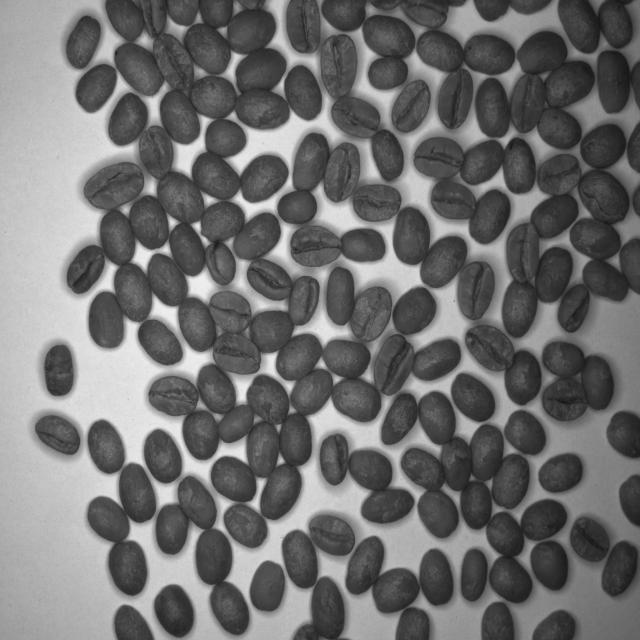bad: (152, 30, 201, 105), (234, 85, 294, 140), (218, 495, 270, 553), (246, 374, 294, 430), (43, 340, 82, 399)
good: (81, 157, 152, 215), (578, 164, 633, 234), (418, 229, 470, 296), (585, 251, 637, 317), (224, 6, 283, 64), (453, 368, 504, 435), (368, 331, 416, 402), (593, 47, 638, 121), (58, 235, 110, 299), (242, 294, 294, 358), (151, 571, 199, 640), (469, 183, 517, 252), (543, 56, 598, 116), (309, 570, 356, 640), (238, 145, 291, 207), (495, 268, 539, 342), (338, 436, 394, 494), (362, 480, 418, 538), (570, 210, 626, 268), (464, 317, 514, 381), (195, 358, 242, 426), (318, 30, 360, 106), (338, 534, 386, 600), (470, 411, 510, 490), (323, 136, 366, 209), (158, 174, 212, 232), (349, 280, 395, 348), (30, 407, 89, 460), (256, 461, 304, 526), (107, 534, 154, 600), (70, 56, 120, 118), (458, 132, 508, 194), (415, 541, 459, 611), (309, 499, 359, 560), (388, 76, 436, 139), (537, 376, 593, 430), (565, 507, 613, 570), (236, 209, 286, 269), (534, 241, 578, 309), (527, 192, 583, 245), (551, 272, 594, 341), (182, 22, 234, 79), (116, 258, 156, 332), (401, 445, 452, 503), (359, 13, 419, 62), (426, 172, 478, 228), (193, 526, 237, 592), (536, 144, 586, 202), (290, 126, 332, 195), (248, 549, 290, 618), (436, 64, 476, 136), (117, 462, 162, 526), (577, 115, 625, 175), (115, 39, 162, 100), (132, 317, 188, 368), (147, 372, 203, 423), (242, 418, 284, 486), (536, 98, 587, 154), (63, 6, 106, 72), (88, 290, 131, 356), (417, 21, 465, 80), (126, 191, 173, 251), (488, 450, 532, 514), (375, 383, 417, 450), (502, 135, 544, 202), (328, 87, 382, 139), (207, 451, 258, 506), (394, 284, 439, 346), (529, 536, 574, 598), (579, 353, 620, 421), (412, 334, 460, 392), (488, 554, 536, 612), (472, 78, 514, 144), (84, 494, 136, 547), (234, 44, 288, 95), (373, 563, 423, 618), (535, 449, 590, 499), (282, 520, 318, 596), (288, 364, 336, 421), (506, 217, 544, 289), (458, 256, 497, 326), (176, 472, 219, 535), (338, 220, 389, 273), (500, 408, 553, 459), (350, 179, 404, 229), (413, 130, 467, 180), (516, 23, 570, 73), (509, 68, 547, 139), (287, 222, 342, 271), (242, 255, 298, 303), (142, 428, 186, 489), (209, 571, 251, 634), (190, 150, 238, 205), (85, 420, 129, 480), (188, 72, 235, 128), (285, 64, 326, 128), (505, 347, 546, 411), (599, 536, 640, 600), (393, 204, 432, 271), (419, 389, 464, 447), (157, 91, 205, 145), (276, 332, 324, 386), (154, 501, 197, 561), (106, 94, 151, 151), (418, 484, 462, 542), (147, 249, 190, 308), (98, 209, 140, 269), (463, 30, 519, 75), (317, 420, 353, 490), (487, 507, 532, 563), (324, 264, 362, 330), (203, 289, 256, 336), (212, 330, 263, 378), (367, 123, 409, 181), (167, 219, 206, 281), (271, 179, 320, 228), (182, 408, 222, 468), (326, 334, 374, 384), (332, 372, 378, 424), (519, 498, 568, 546), (285, 0, 323, 61), (280, 407, 315, 473), (204, 114, 250, 164), (137, 122, 174, 184), (367, 49, 415, 96), (543, 336, 588, 386), (288, 269, 326, 328), (460, 547, 495, 611), (462, 474, 496, 539), (596, 0, 636, 55), (178, 294, 215, 348), (204, 233, 239, 288), (217, 399, 256, 446)
